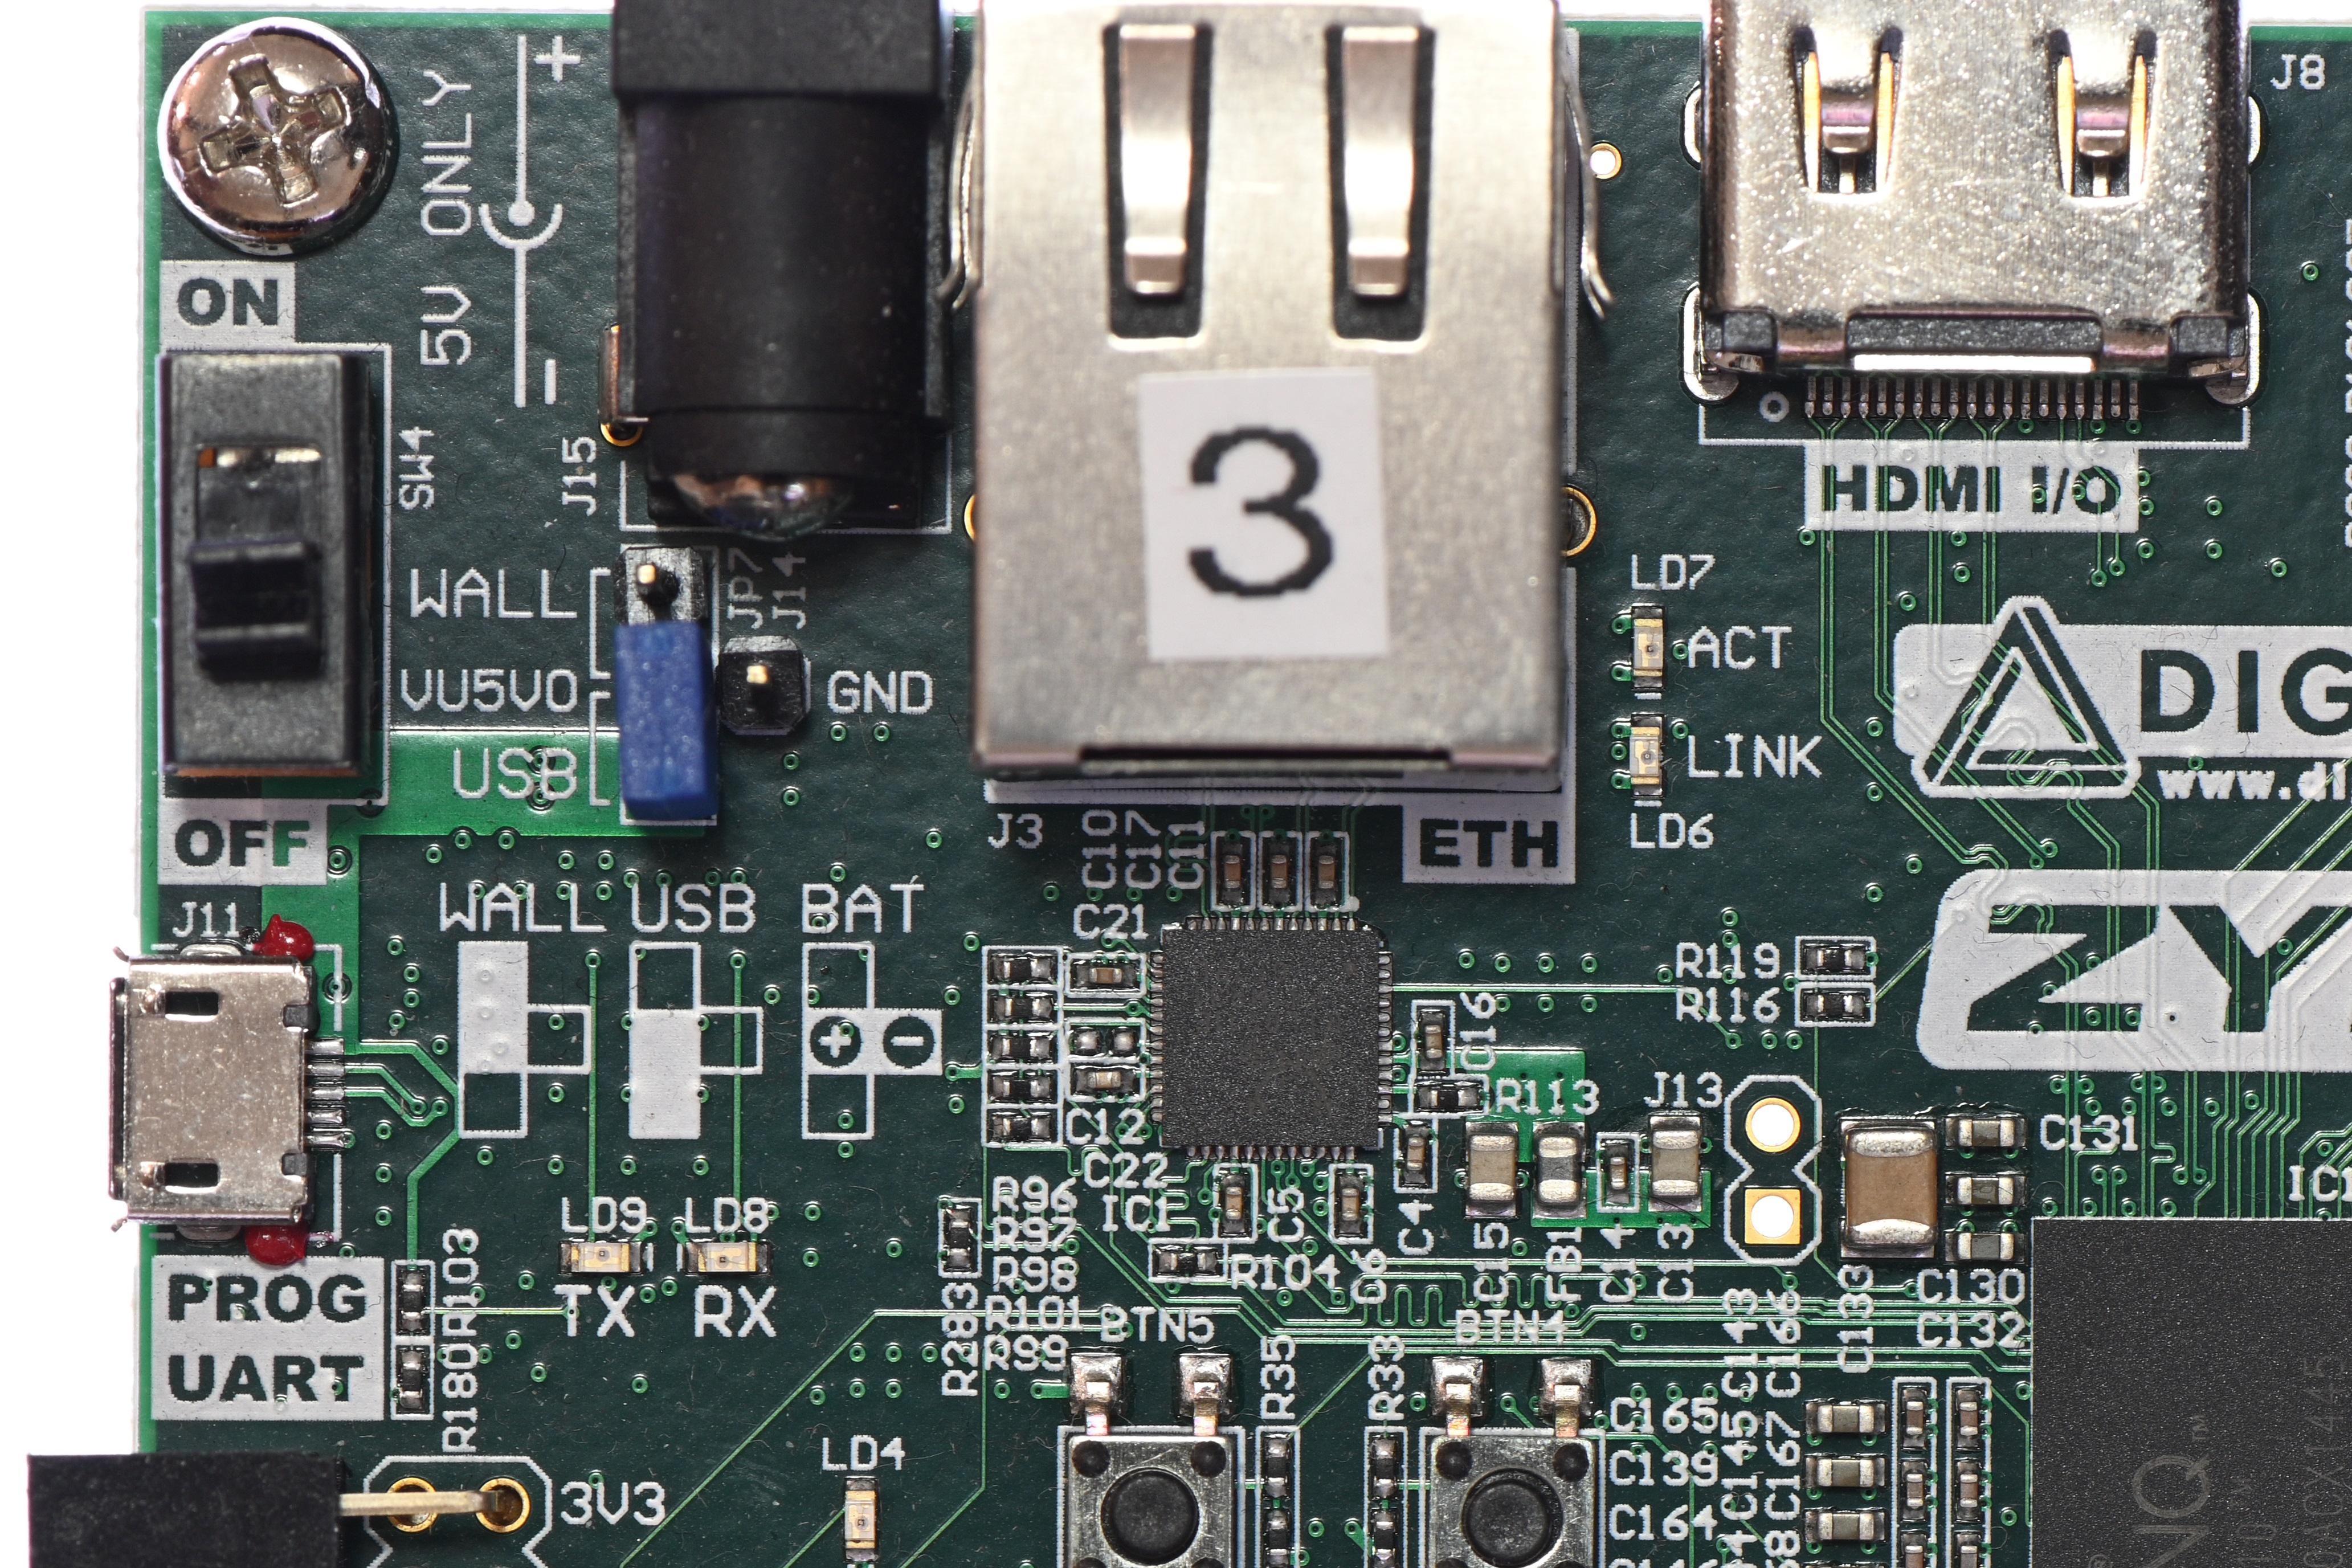ICs: (2032, 1216, 2352, 1568), (1159, 926, 1382, 1152)
capacitors: (1843, 1123, 1944, 1249), (1649, 1122, 1703, 1202), (1465, 1127, 1519, 1207), (1951, 1171, 2018, 1211), (1953, 1227, 2020, 1265), (1953, 1115, 2020, 1153), (1813, 1507, 1878, 1545), (1813, 1452, 1878, 1489), (1813, 1400, 1878, 1437), (1220, 850, 1246, 894), (1265, 850, 1291, 894), (1313, 849, 1339, 893), (1421, 1019, 1447, 1062), (1402, 1132, 1428, 1176), (1603, 1150, 1629, 1193), (1901, 1395, 1927, 1438), (1955, 1396, 1981, 1440), (1220, 1181, 1246, 1223), (1335, 1183, 1362, 1225), (1083, 1066, 1125, 1092), (1901, 1467, 1927, 1509), (1955, 1468, 1981, 1510), (1085, 963, 1125, 989), (1901, 1538, 1927, 1568), (1955, 1540, 1981, 1568), (1811, 1561, 1876, 1568)
diodes: (565, 1237, 633, 1278), (693, 1237, 761, 1278), (842, 1484, 880, 1554), (1629, 612, 1668, 679), (1626, 721, 1663, 788)
resistors: (1372, 1512, 1400, 1563), (945, 1213, 973, 1262), (1370, 1444, 1398, 1493), (1264, 1512, 1291, 1561), (1262, 1442, 1290, 1491), (998, 1111, 1043, 1141), (998, 1033, 1043, 1062), (999, 992, 1045, 1022), (999, 955, 1045, 985), (998, 1074, 1043, 1104), (397, 1278, 427, 1323), (1164, 1248, 1211, 1276), (397, 1358, 427, 1402), (1811, 943, 1859, 970), (1811, 991, 1859, 1017), (1425, 1085, 1470, 1111)
